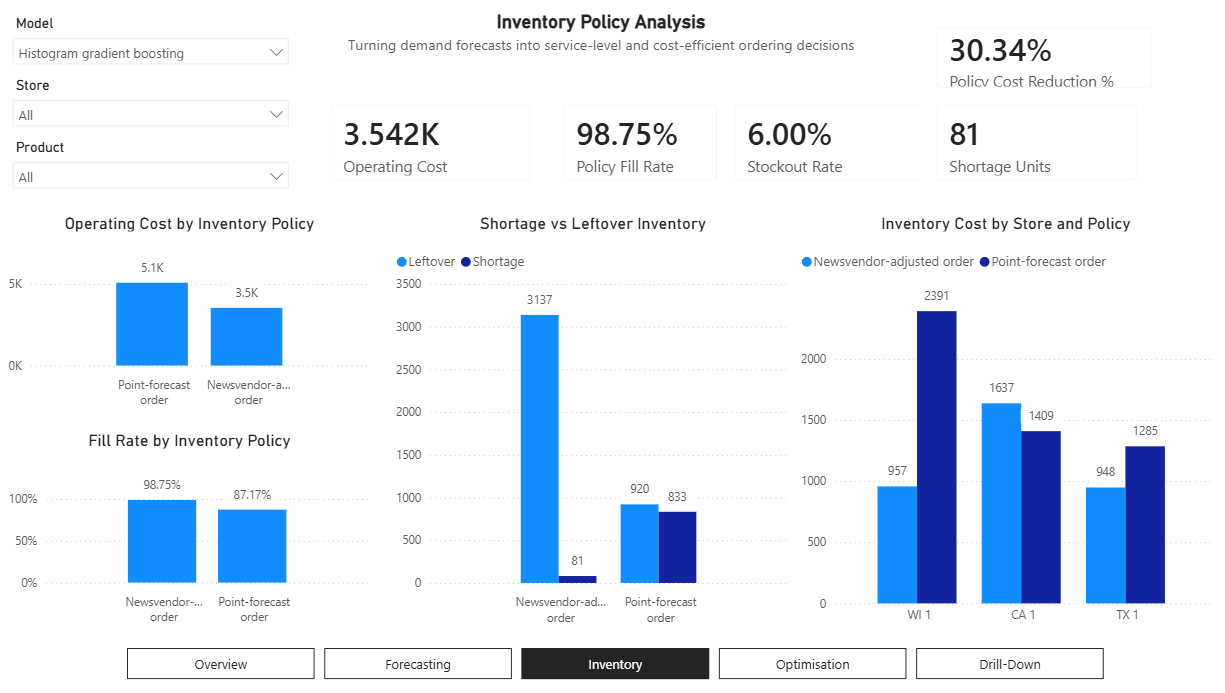

What the dashboard file says about the page in this screenshot:
{"tool":"powerbi","page":{"name":"Inventory","canvas":[1280,720],"ordinal":2},"visuals":[{"type":"textbox","title":"Inventory Policy Analysis","box":[352,16,560,48],"z":0},{"type":"slicer","fields":{"Values":["dim_model.model_name"]},"box":[16,16,304,64],"z":1000},{"type":"slicer","fields":{"Values":["dim_store.store_name"]},"box":[16,80,304,64],"z":2000},{"type":"slicer","fields":{"Values":["dim_item.item_name"]},"box":[16,144,304,64],"z":3000},{"type":"cardVisual","fields":{"Data":["KPI Measures.Newsvendor Operating Cost"]},"box":[336,96,240,112],"z":4000},{"type":"cardVisual","fields":{"Data":["KPI Measures.Newsvendor Policy Fill Rate"]},"box":[576,96,192,112],"z":5000},{"type":"cardVisual","fields":{"Data":["KPI Measures.Newsvendor Stockout Rate"]},"box":[752,96,240,112],"z":6000},{"type":"cardVisual","fields":{"Data":["KPI Measures.Newsvendor Shortage Units"]},"box":[960,96,240,112],"z":7000},{"type":"cardVisual","fields":{"Data":["KPI Measures.Policy Cost Reduction %"]},"box":[960,16,256,96],"z":8000},{"type":"lineStackedColumnComboChart","title":"Operating Cost by Inventory Policy","fields":{"Y":["KPI Measures.Inventory Operating Cost"],"Category":["dim_inventory_policy.policy_name"]},"box":[16,224,384,208],"z":9000},{"type":"lineClusteredColumnComboChart","title":"Fill Rate by Inventory Policy","fields":{"Category":["dim_inventory_policy.policy_name"],"Y":["KPI Measures.Inventory Fill Rate"]},"box":[16,448,384,208],"z":10000},{"type":"lineClusteredColumnComboChart","title":"Shortage vs Leftover Inventory","fields":{"Y":["KPI Measures.Inventory Leftover Units","KPI Measures.Inventory Shortage Units"],"Category":["dim_inventory_policy.policy_name"]},"box":[416,224,416,432],"z":11000},{"type":"lineClusteredColumnComboChart","title":"Inventory Cost by Store and Policy","fields":{"Category":["dim_store.store_name"],"Y":["KPI Measures.Inventory Operating Cost"],"Series":["dim_inventory_policy.policy_name"]},"box":[832,224,432,432],"z":12000},{"type":"pageNavigator","box":[144,672,1008,32],"z":12001}]}

Visuals, with their boxes in screenshot pixels (x1, y1, x2, y2), scaled from the page's 1280x720 canvas onto the 1225x693 screenshot:
"Inventory Policy Analysis" textbox: detection(337, 15, 873, 62)
slicer - dim_model.model_name: detection(15, 15, 306, 77)
slicer - dim_store.store_name: detection(15, 77, 306, 139)
slicer - dim_item.item_name: detection(15, 139, 306, 200)
cardVisual - KPI Measures.Newsvendor Operating Cost: detection(322, 92, 551, 200)
cardVisual - KPI Measures.Newsvendor Policy Fill Rate: detection(551, 92, 735, 200)
cardVisual - KPI Measures.Newsvendor Stockout Rate: detection(720, 92, 949, 200)
cardVisual - KPI Measures.Newsvendor Shortage Units: detection(919, 92, 1148, 200)
cardVisual - KPI Measures.Policy Cost Reduction %: detection(919, 15, 1164, 108)
"Operating Cost by Inventory Policy" lineStackedColumnComboChart: detection(15, 216, 383, 416)
"Fill Rate by Inventory Policy" lineClusteredColumnComboChart: detection(15, 431, 383, 631)
"Shortage vs Leftover Inventory" lineClusteredColumnComboChart: detection(398, 216, 796, 631)
"Inventory Cost by Store and Policy" lineClusteredColumnComboChart: detection(796, 216, 1210, 631)
pageNavigator: detection(138, 647, 1102, 678)
